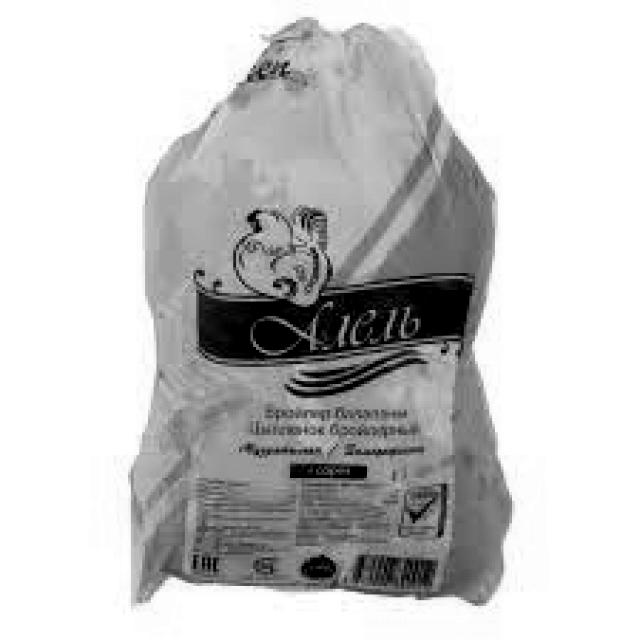alel: (189, 188, 478, 446)
